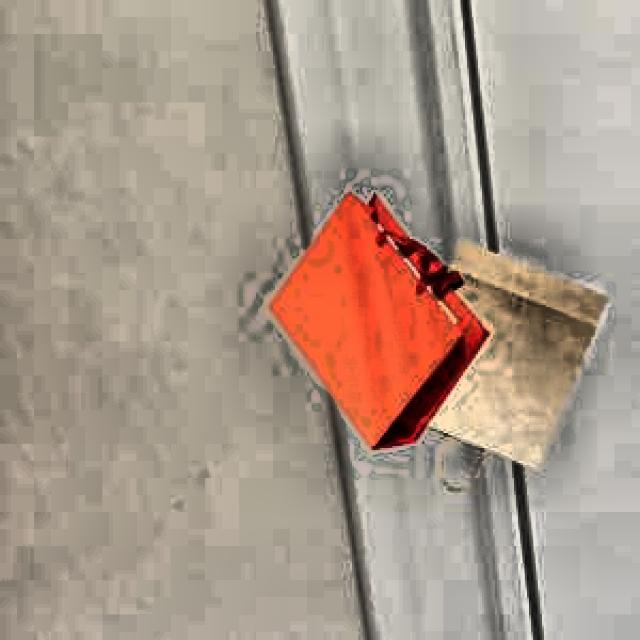Paper-bag: (254, 193, 482, 456), (428, 232, 613, 486)
